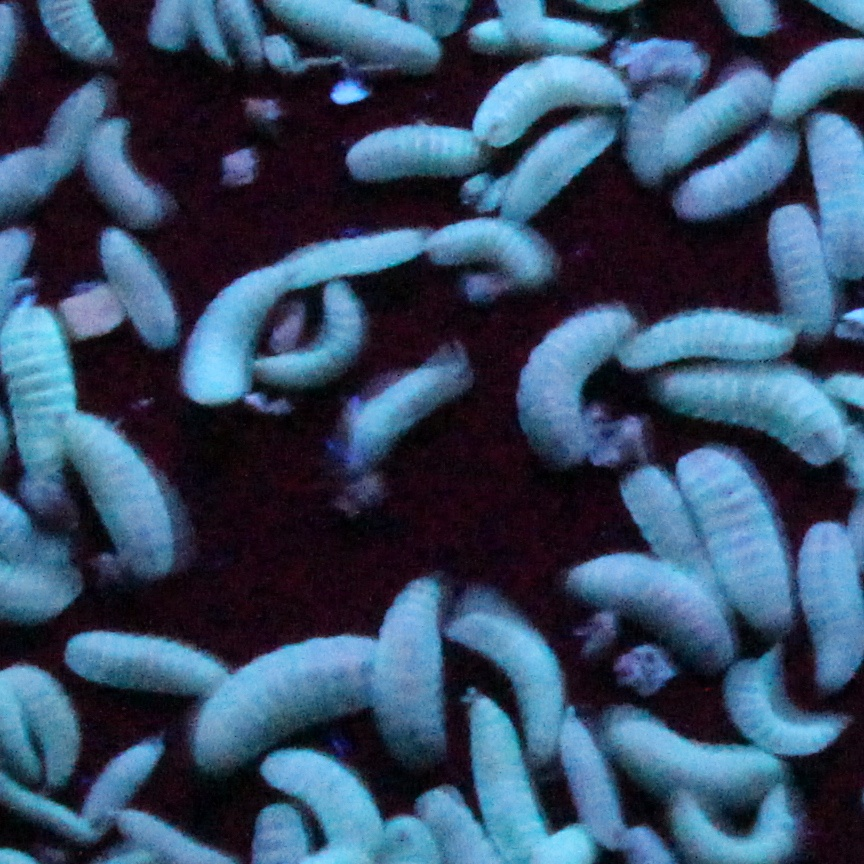larve: (186, 632, 392, 769), (679, 447, 793, 636), (440, 599, 568, 766), (61, 410, 182, 585), (563, 551, 739, 669), (654, 364, 851, 467), (616, 462, 737, 626), (516, 307, 639, 465), (611, 706, 788, 806), (334, 352, 471, 474), (466, 57, 638, 146), (497, 112, 621, 229), (260, 748, 388, 861), (373, 578, 449, 766), (181, 259, 278, 404), (672, 124, 808, 221), (251, 282, 363, 390), (59, 629, 236, 697), (618, 310, 801, 372), (731, 658, 846, 756), (664, 66, 771, 171), (424, 210, 558, 291), (561, 709, 633, 849), (272, 226, 424, 292), (102, 225, 177, 351), (766, 199, 831, 340), (87, 120, 167, 228), (344, 124, 484, 185), (42, 85, 106, 181), (86, 747, 157, 828), (630, 79, 679, 177), (471, 20, 610, 51)
